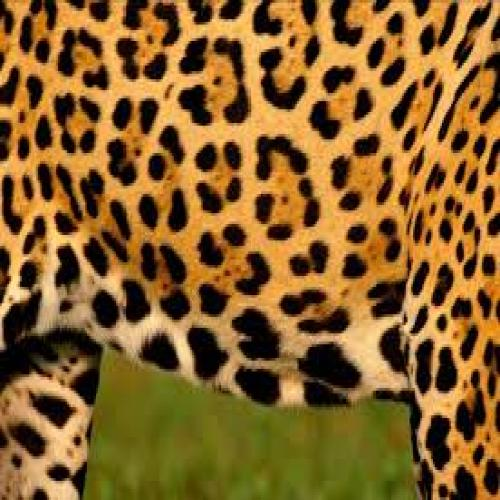jaguar_not-endangered: (0, 0, 499, 389)
